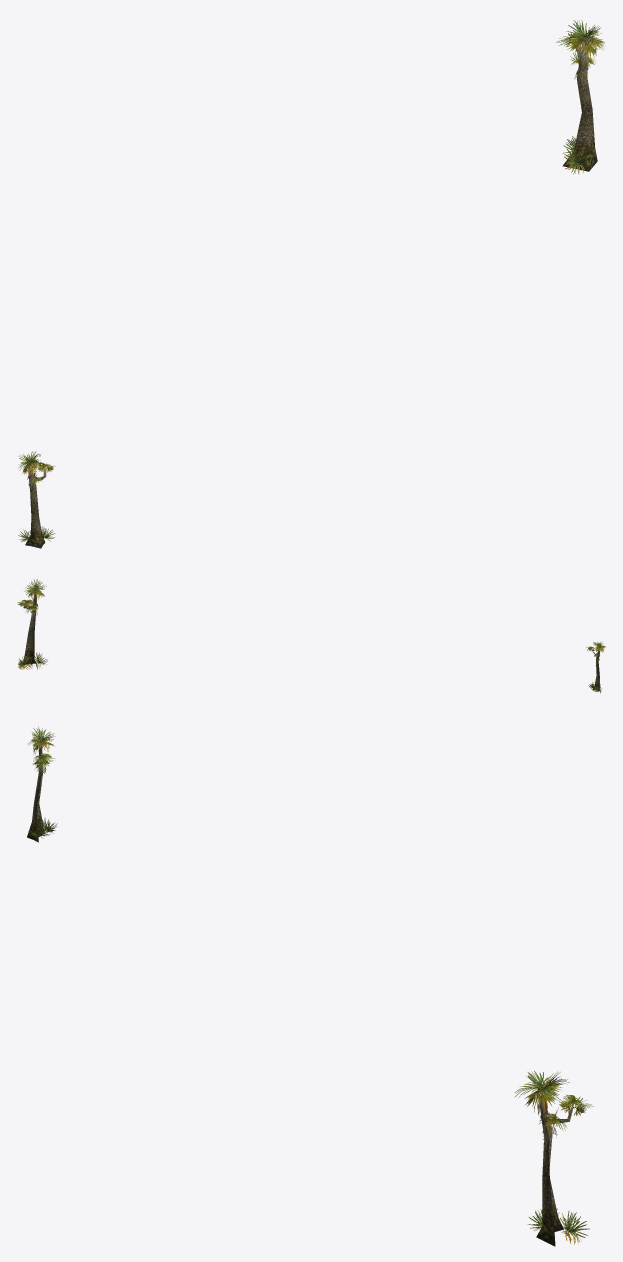
The model's file is S_Tree_Yellow051_A.FBX.
The picture shows the model from 3 angles, top to bottom: view 1: azimuth 30°, elevation 25°; view 2: azimuth 150°, elevation 25°; view 3: azimuth 270°, elevation 25°; orthographic projection. The views are drawn at different scales.
Visible parts, largest first — view 1: S_Tree_Yellow051_002, S_Tree_Yellow051_001; view 2: S_Tree_Yellow051_002, S_Tree_Yellow051_001; view 3: S_Tree_Yellow051_002, S_Tree_Yellow051_001.
Boxes of the visible parts, x1=… form: S_Tree_Yellow051_002: x1=556, y1=20, x2=605, y2=174; S_Tree_Yellow051_001: x1=18, y1=451, x2=55, y2=548; S_Tree_Yellow051_002: x1=17, y1=579, x2=47, y2=669; S_Tree_Yellow051_001: x1=586, y1=641, x2=605, y2=693; S_Tree_Yellow051_002: x1=514, y1=1071, x2=593, y2=1246; S_Tree_Yellow051_001: x1=27, y1=727, x2=57, y2=842.
Bounding box in the file's own units: 5298 × 1082 × 2870.
